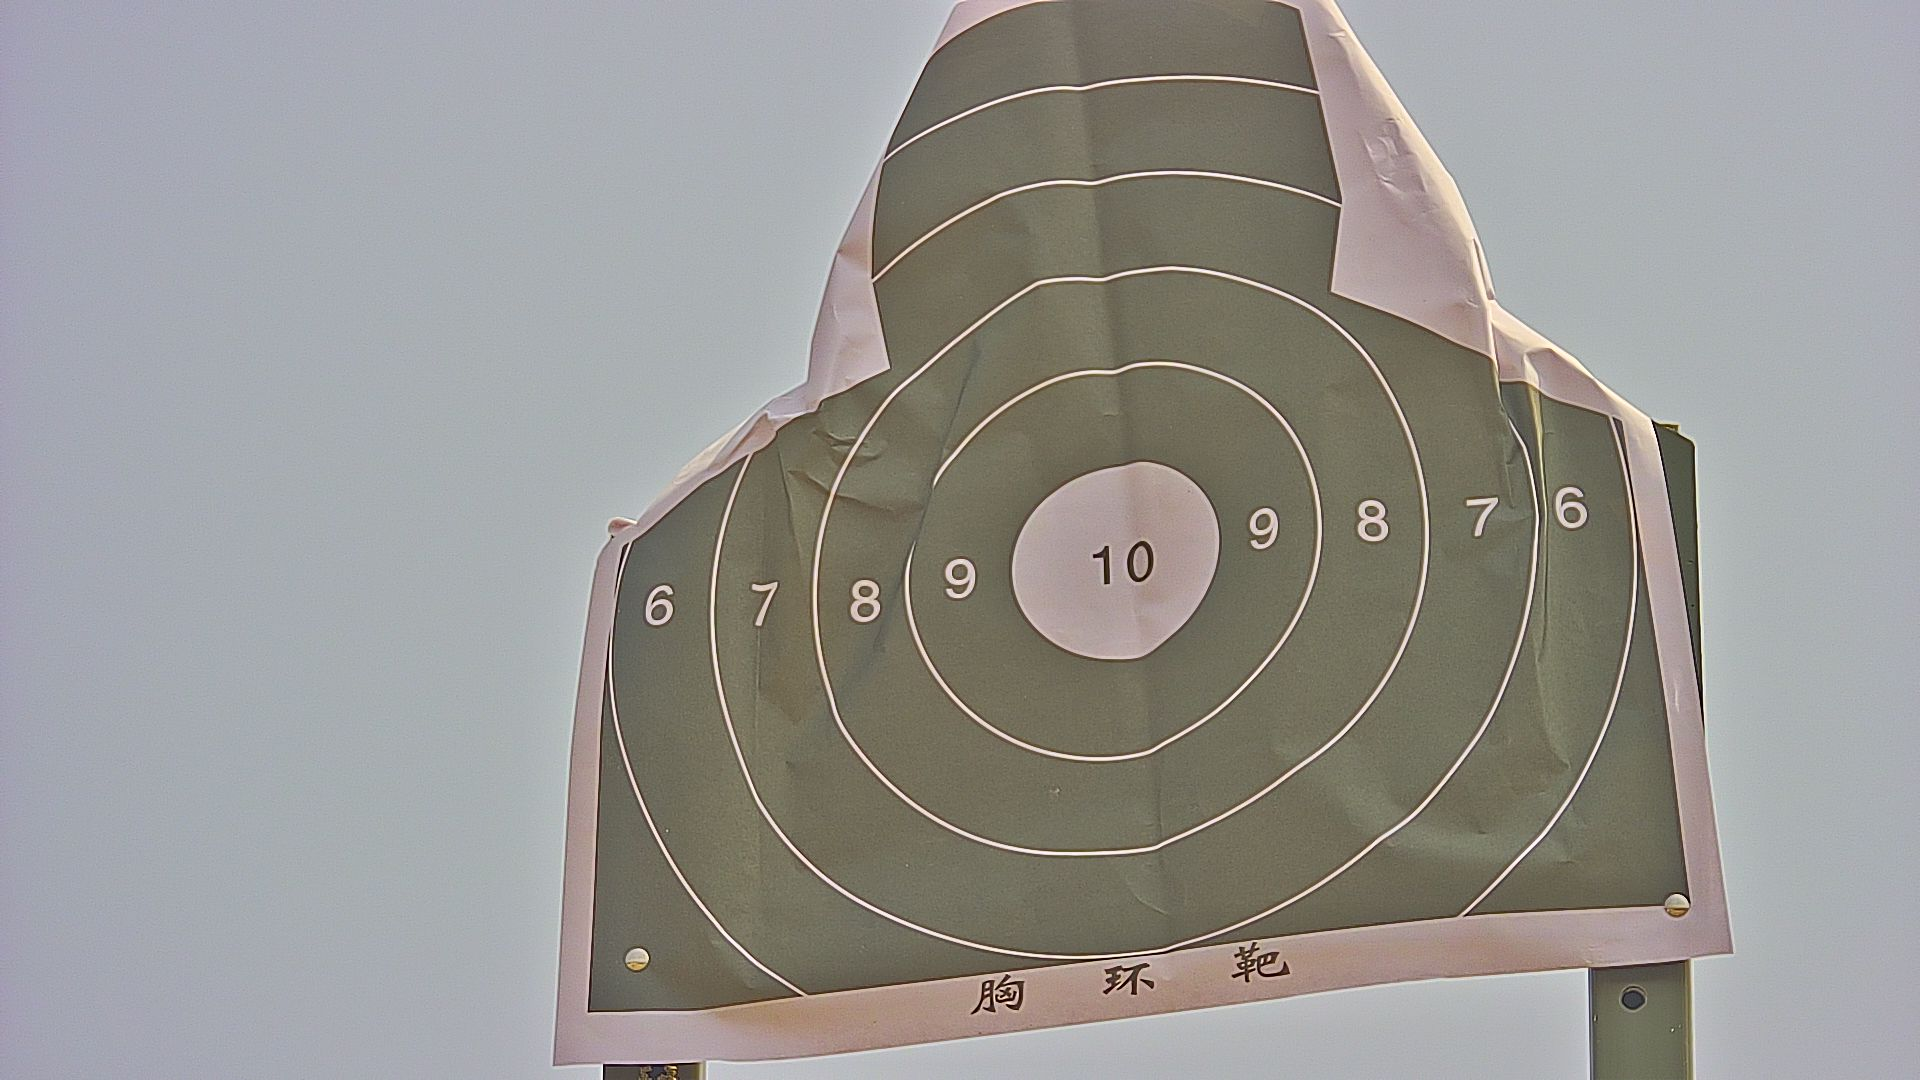kernel: (1120, 568, 1122, 576)
target: (585, 5, 1698, 1017)
ten: (1013, 458, 1221, 667)
